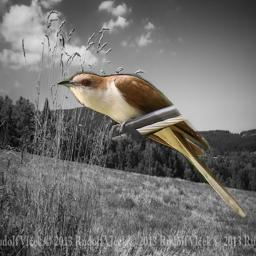Cuckoo: (55, 71, 250, 221)
